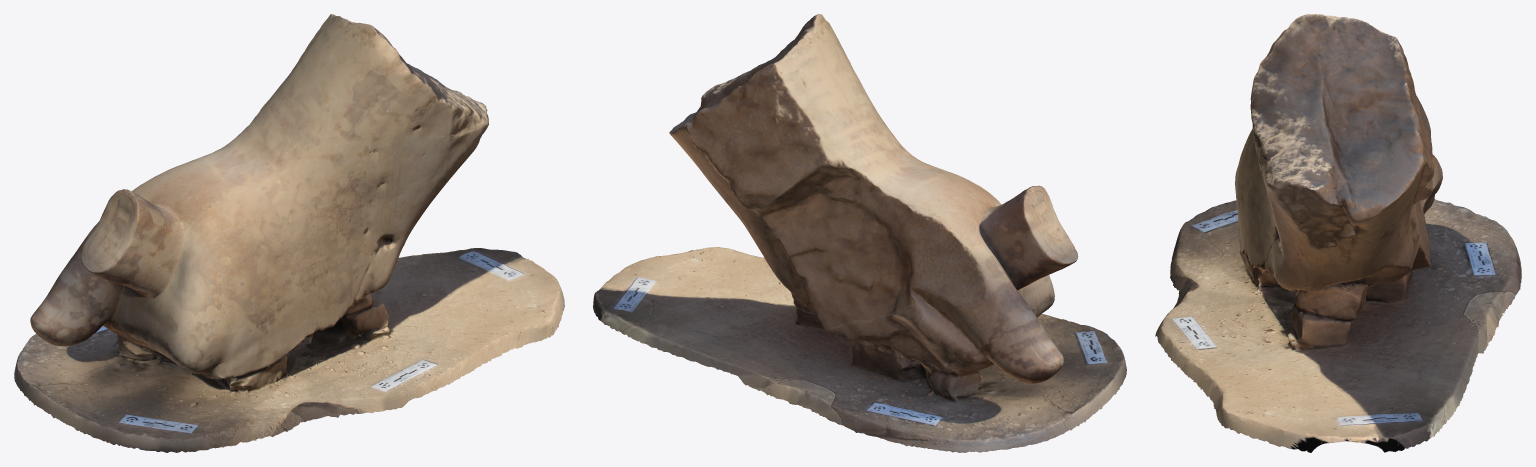
Rendered from hand.glb.
The picture shows the model from 3 angles, left to right: view 1: azimuth 30°, elevation 25°; view 2: azimuth 150°, elevation 25°; view 3: azimuth 270°, elevation 25°; orthographic projection. The views are drawn at different scales.
Parts seen in each view (by area): view 1: Object_2; view 2: Object_2; view 3: Object_2.
Boxes of the visible parts, left/top/right/bottom form: Object_2: left=14, top=14, right=564, bottom=452; Object_2: left=593, top=14, right=1126, bottom=452; Object_2: left=1155, top=14, right=1521, bottom=452.
Bounding box in the file's own units: 2590 × 1620 × 1541.
Materials: 1 (1 with a texture image).
